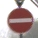No entry: (6, 6, 33, 33)
